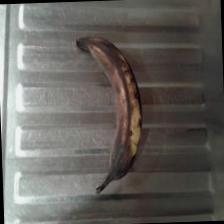Banana Rotten: (68, 19, 154, 200)
